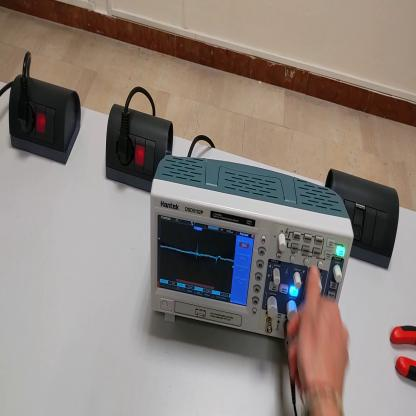hand: (288, 264, 350, 399)
oscilloscope: (151, 157, 355, 342)
pliers: (390, 325, 416, 384)
socket: (9, 69, 84, 165), (107, 105, 176, 195)
